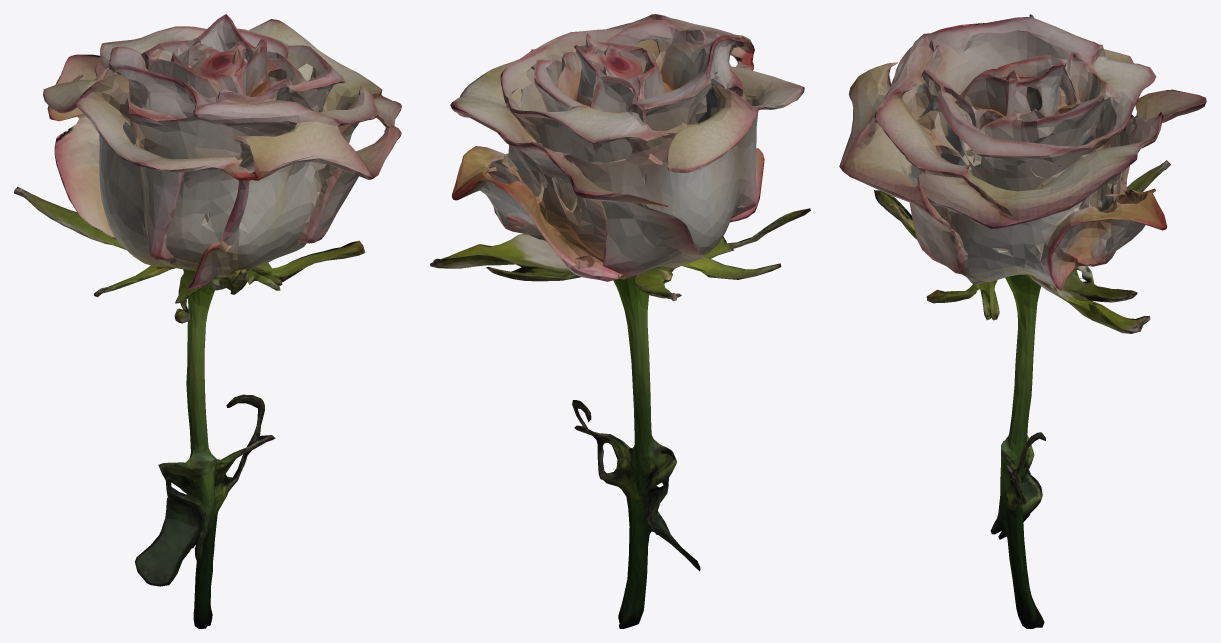
3 views of the same model, side by side, from view 1: azimuth 30°, elevation 25°; view 2: azimuth 150°, elevation 25°; view 3: azimuth 270°, elevation 25° (orthographic).
Visible parts, largest first — view 1: world; view 2: world; view 3: world.
Boxes of the visible parts, box(x1,y1,x2,y2) form: world: box(14, 14, 401, 628); world: box(430, 14, 810, 628); world: box(839, 14, 1206, 628).
Bounding box in the file's own units: 0.5278 × 0.9605 × 0.5484.
Materials: 1 (1 with a texture image).
